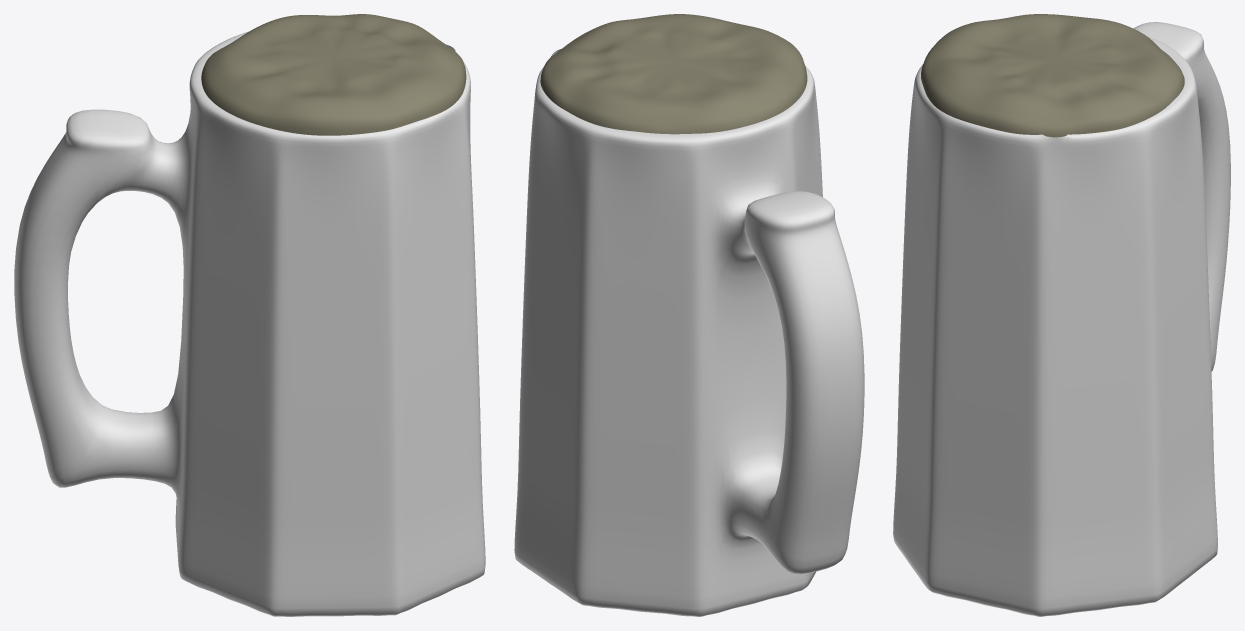
Rendered from geometries.glb.
3 views of the same model, side by side, from view 1: azimuth 30°, elevation 25°; view 2: azimuth 150°, elevation 25°; view 3: azimuth 270°, elevation 25° (orthographic).
Visible parts, largest first — view 1: GLASS BEER, FOAM; view 2: GLASS BEER, FOAM; view 3: GLASS BEER, FOAM.
Part boxes in pixels (x1,y1,x2,y2): GLASS BEER: [14, 31, 485, 616]; FOAM: [201, 14, 466, 135]; GLASS BEER: [514, 49, 864, 616]; FOAM: [540, 14, 807, 134]; GLASS BEER: [893, 22, 1230, 616]; FOAM: [921, 14, 1184, 137].
Size of the model in its own units: 0.1375 by 0.1677 by 0.1034.
